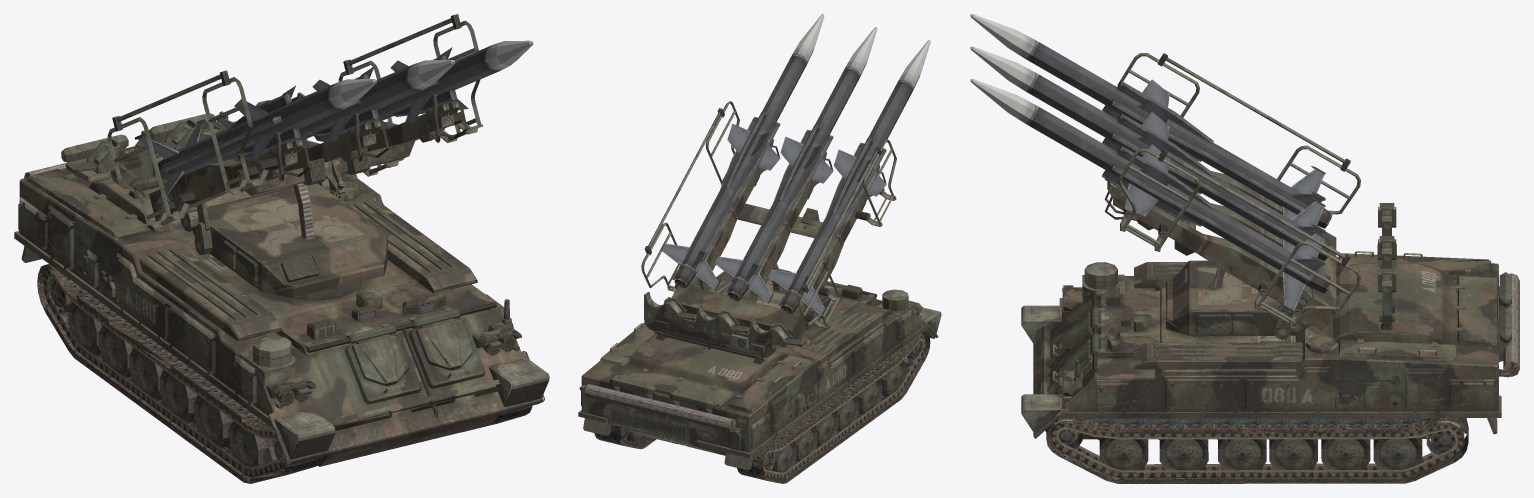
Rendered from missiletank_lod0_original.glb.
3 renders of one model, left to right at view 1: azimuth 30°, elevation 25°; view 2: azimuth 150°, elevation 25°; view 3: azimuth 270°, elevation 25°, orthographic. The views are drawn at different scales.
Parts seen in each view (by area): view 1: Tank_Tank_0.001, Tank_Wheel_0.001; view 2: Tank_Tank_0.001, Tank_Wheel_0.001; view 3: Tank_Tank_0.001, Tank_Wheel_0.001.
Part boxes in pixels (left/top/right/bottom): Tank_Tank_0.001: left=14, top=14, right=549, bottom=466; Tank_Wheel_0.001: left=37, top=264, right=532, bottom=483; Tank_Tank_0.001: left=578, top=14, right=941, bottom=472; Tank_Wheel_0.001: left=594, top=331, right=930, bottom=483; Tank_Tank_0.001: left=970, top=14, right=1519, bottom=470; Tank_Wheel_0.001: left=1046, top=418, right=1468, bottom=483.
Bounding box in the file's own units: 95.45 × 155 × 200.
Materials: 2 (2 with a texture image).
